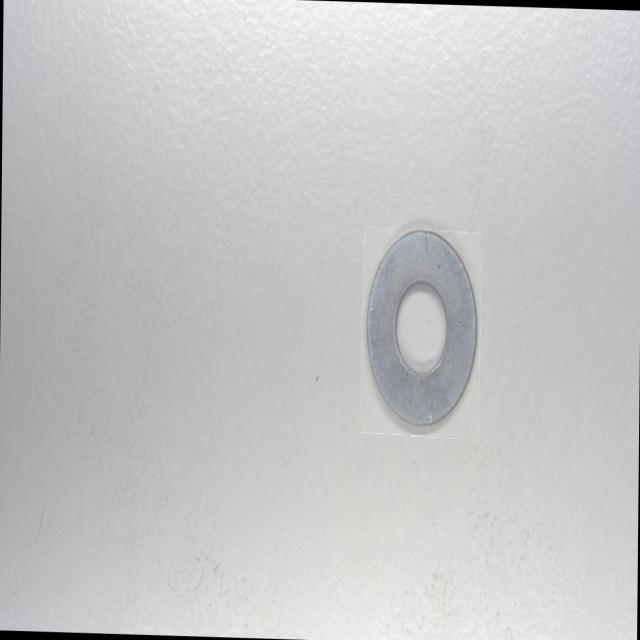washer: (362, 229, 480, 435)
